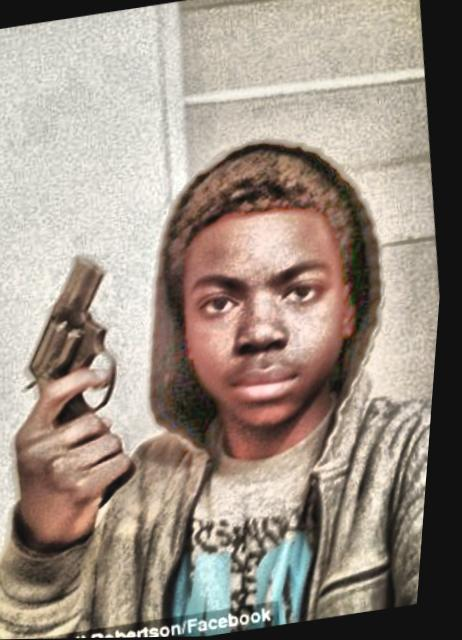pistol: (10, 250, 152, 515)
